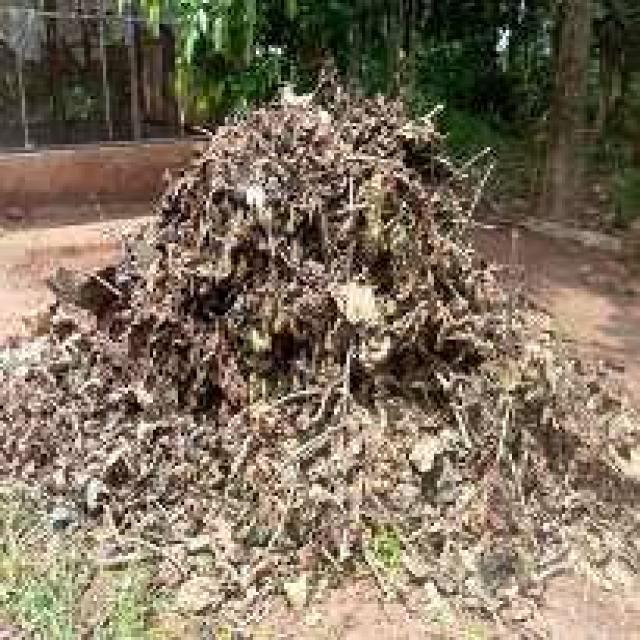dry_waste: (31, 329, 536, 575), (177, 105, 460, 316)
